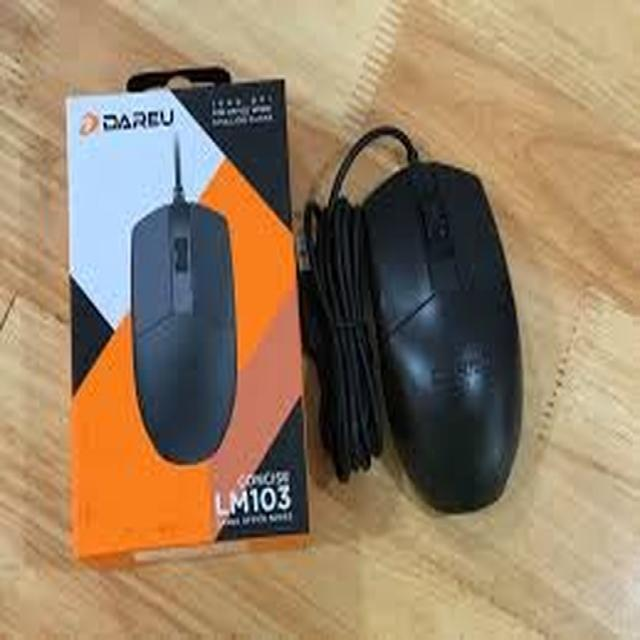box: (55, 72, 317, 580)
mouse: (309, 115, 553, 543)
